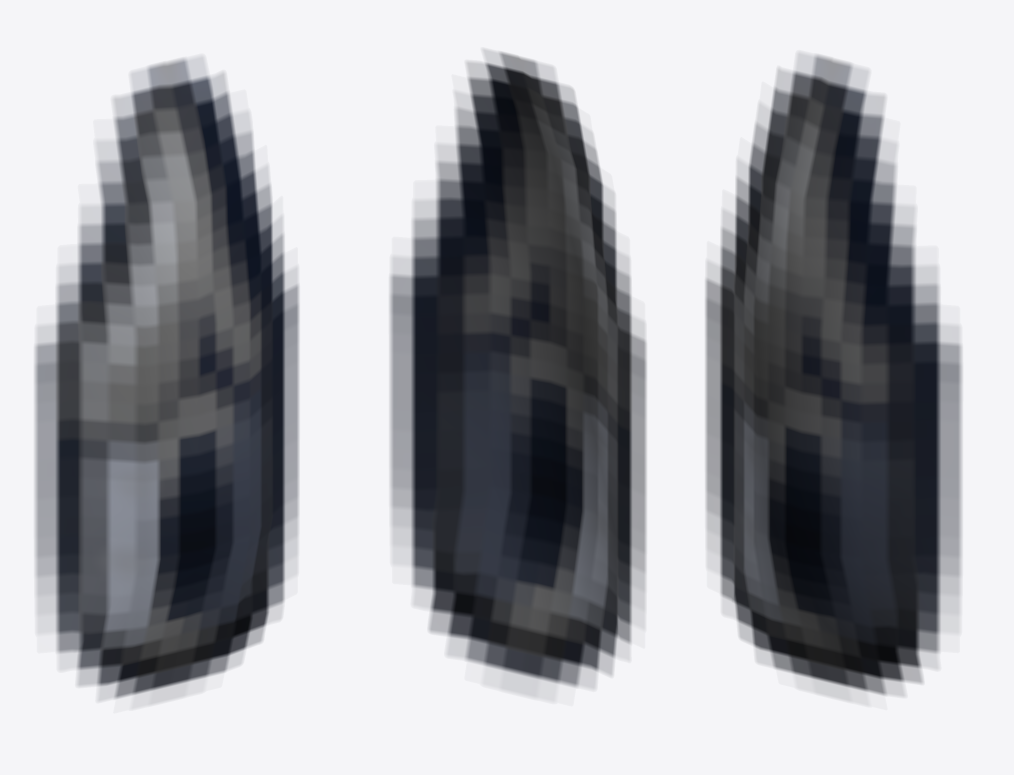
File: FontaineMural.glb
3 renders of one model, left to right at view 1: azimuth 30°, elevation 25°; view 2: azimuth 150°, elevation 25°; view 3: azimuth 330°, elevation 25°, orthographic.
Parts seen in each view (by area): view 1: TrucAEau; view 2: TrucAEau; view 3: TrucAEau.
Part boxes in pixels (left/top/right/bottom): TrucAEau: left=35, top=58, right=298, bottom=699; TrucAEau: left=390, top=51, right=646, bottom=687; TrucAEau: left=705, top=54, right=961, bottom=694.
Bounding box in the file's own units: 0.5232 × 1.09 × 0.1309.
Materials: 1 (1 with a texture image).
